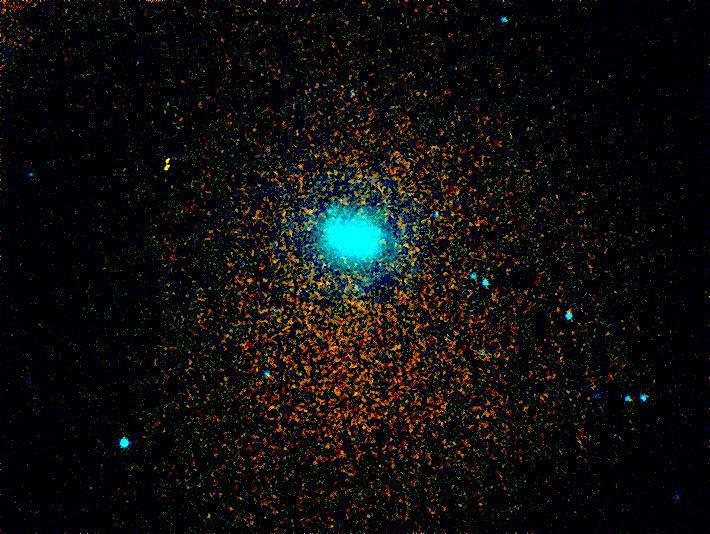star: (153, 152, 183, 182)
